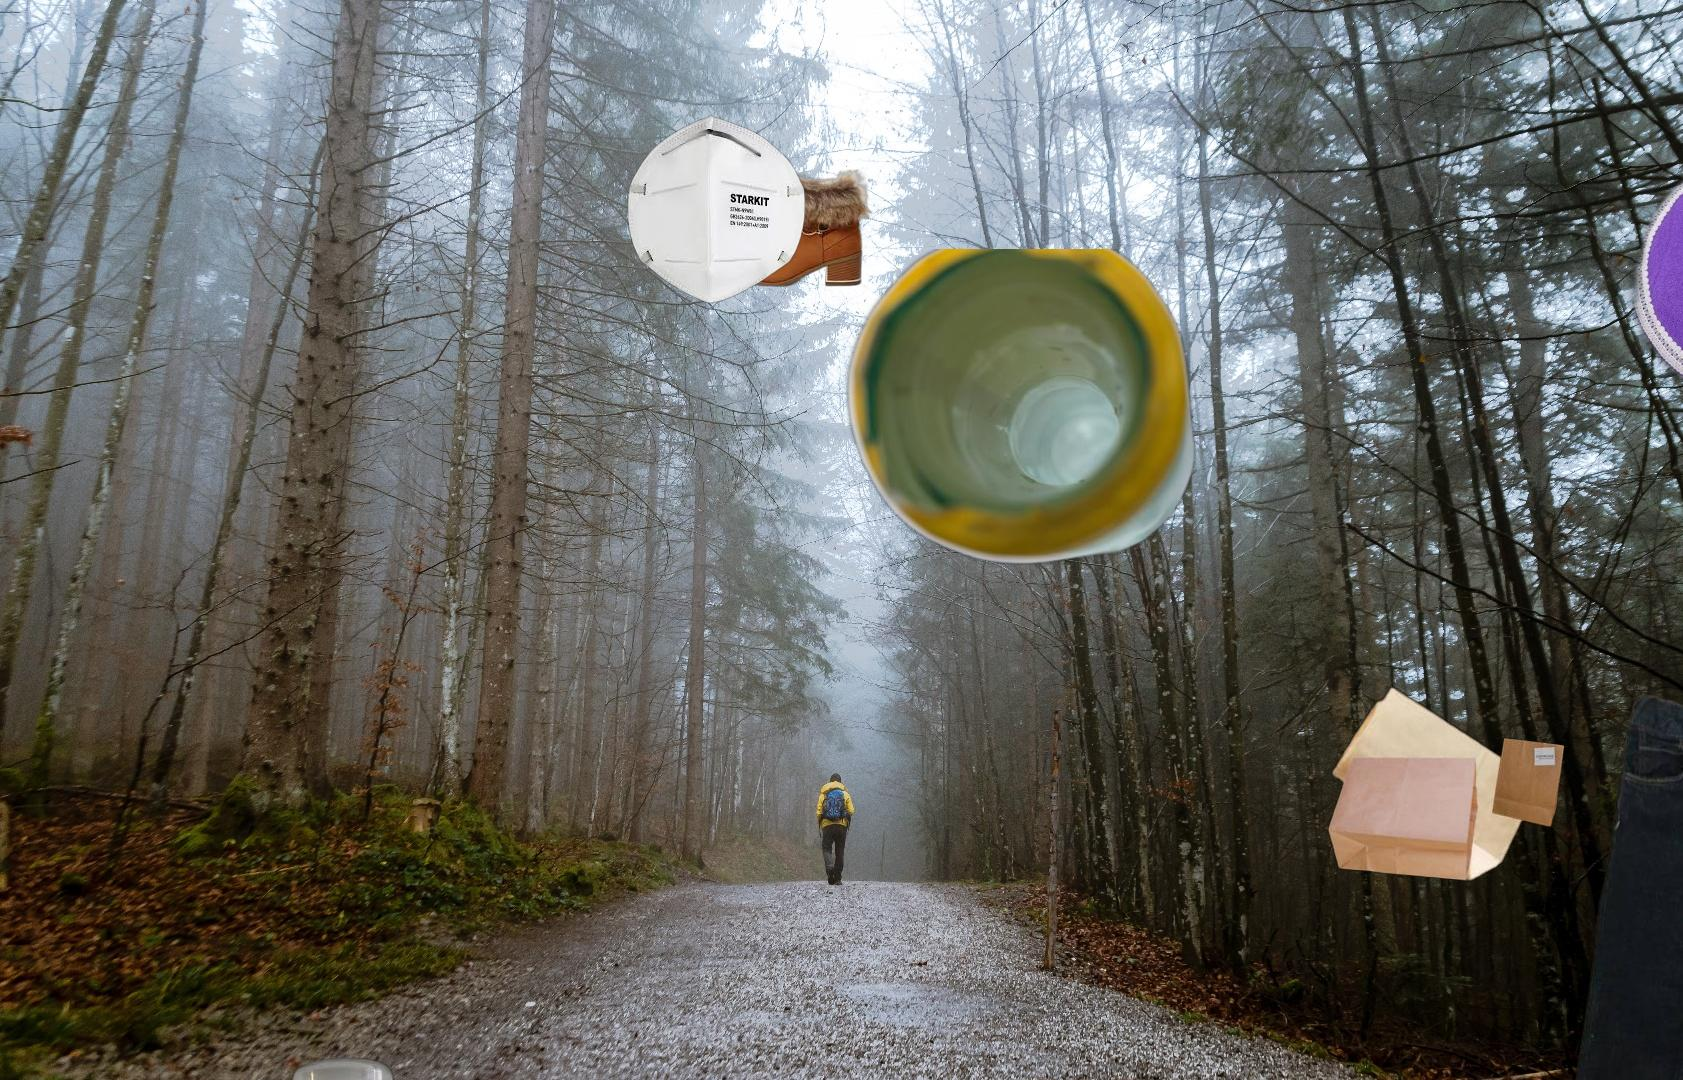clothes: (1566, 686, 1683, 1080)
glass: (842, 249, 1198, 567), (287, 1055, 401, 1080)
paper-bag: (1327, 684, 1566, 882)
shoes: (727, 168, 875, 288)
trash: (626, 113, 808, 306)
trashbox-cardboard: (1609, 71, 1683, 792)
